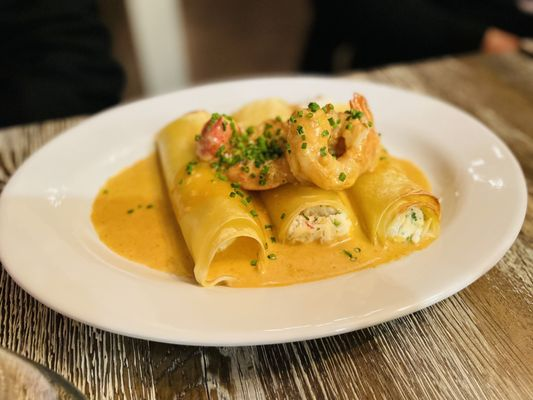curry: (213, 117, 294, 191)
